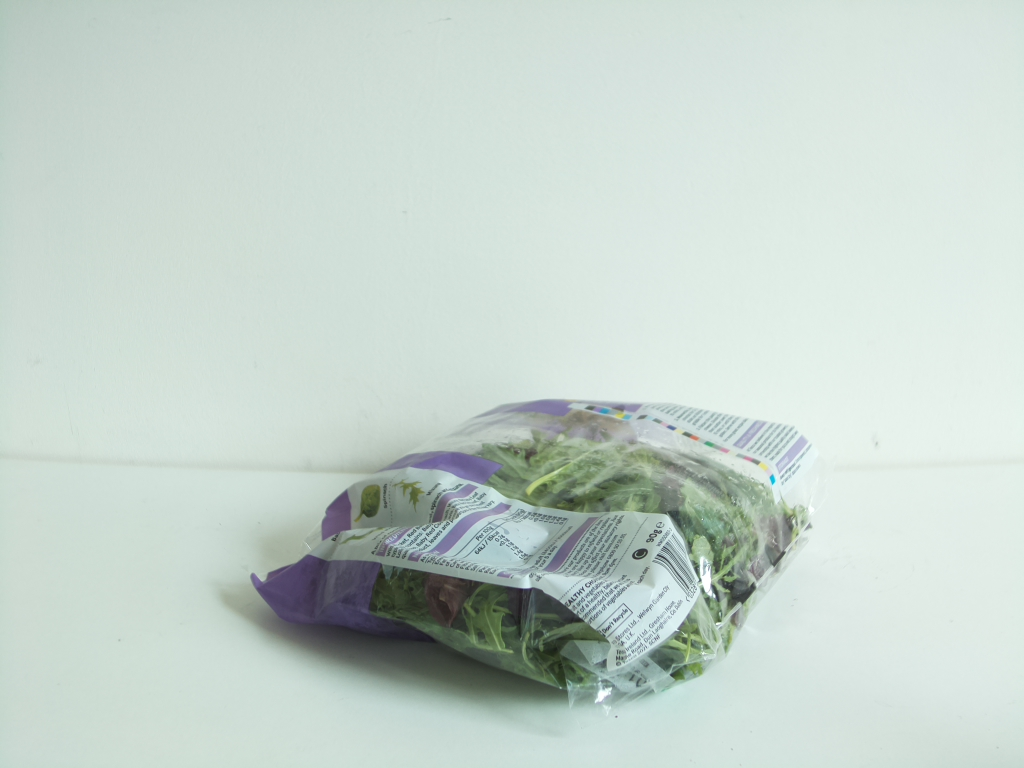salad: (259, 403, 819, 719)
